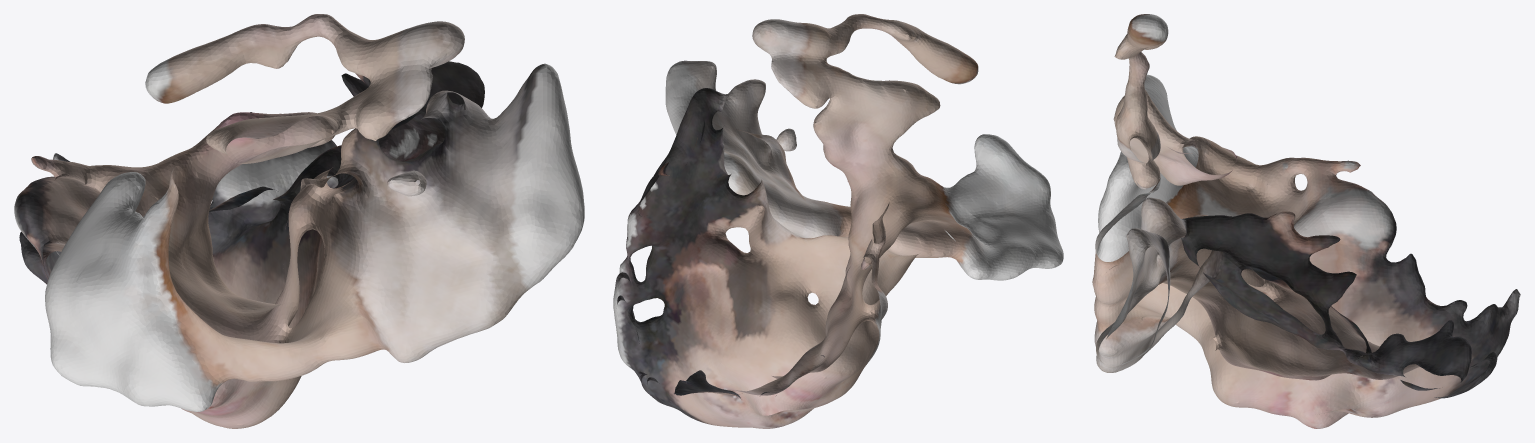
The model's file is allison-baum.glb.
The picture shows the model from 3 angles, left to right: view 1: azimuth 30°, elevation 25°; view 2: azimuth 150°, elevation 25°; view 3: azimuth 270°, elevation 25°; orthographic projection. The views are drawn at different scales.
Visible parts, largest first — view 1: world; view 2: world; view 3: world.
Boxes of the visible parts, x1,y1,x2,y2 form: world: (14, 14, 584, 428); world: (613, 14, 1063, 428); world: (1092, 14, 1520, 428).
Size of the model in its own units: 1.88 by 1.64 by 1.69.
